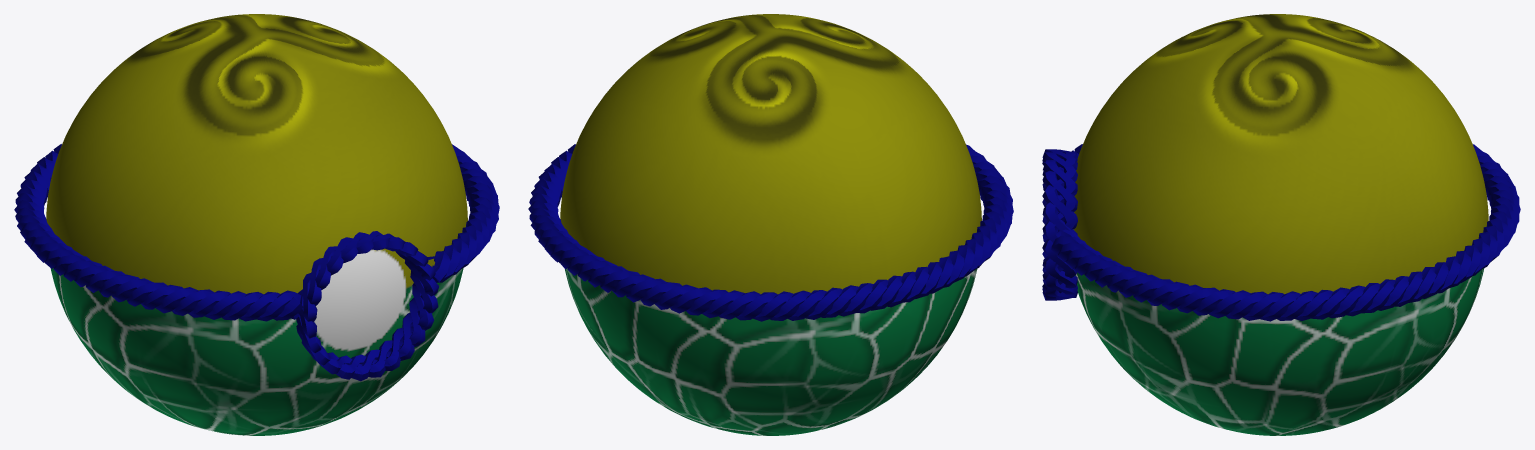
The picture shows the model from 3 angles, left to right: view 1: azimuth 30°, elevation 25°; view 2: azimuth 150°, elevation 25°; view 3: azimuth 270°, elevation 25°; orthographic projection.
Parts seen in each view (by area): view 1: movable, fixed; view 2: movable, fixed; view 3: movable, fixed.
Part boxes in pixels (box(x1,y1,x2,y2)): movable: box(14, 14, 499, 381); fixed: box(50, 268, 463, 435); movable: box(528, 14, 1013, 321); fixed: box(565, 268, 977, 435); movable: box(1042, 14, 1520, 321); fixed: box(1078, 268, 1484, 435).
Size of the model in its own units: 0.2872 by 0.25 by 0.2834.
Materials: 1 (1 with a texture image).
